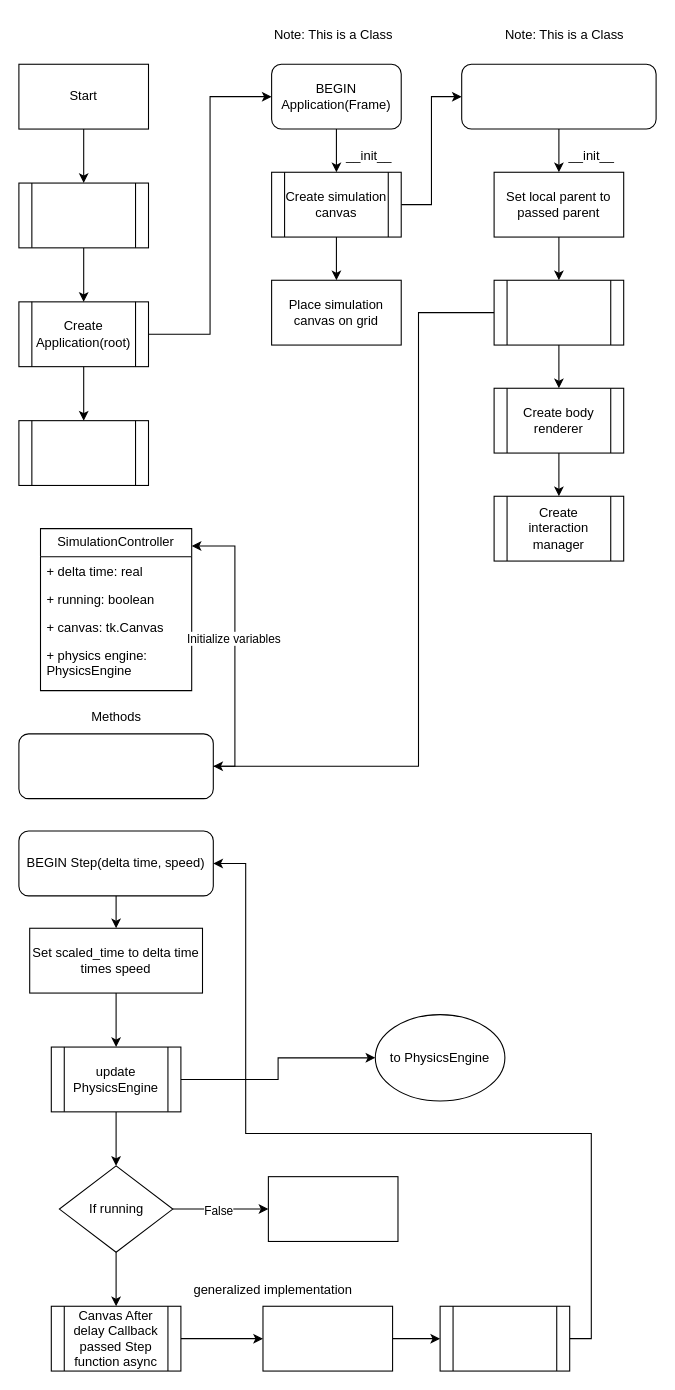
Image size: 675x1390. Some labels were removed from this diagram. Each missing label, with the centre of its shape:
"BEGIN Initialize(canvas)" goes at (x=115, y=766).
"BEGIN SimulationCanvas(tk.Canvas)" goes at (x=558, y=96).
"Create root" goes at (x=83, y=215).
"Create simulation controller" goes at (x=558, y=312).
"Return" goes at (x=332, y=1208).
"Run root mainlooop" goes at (x=83, y=452).
"Run step with default parameters" goes at (x=504, y=1338).
"Wait scaled time" goes at (x=327, y=1338).
